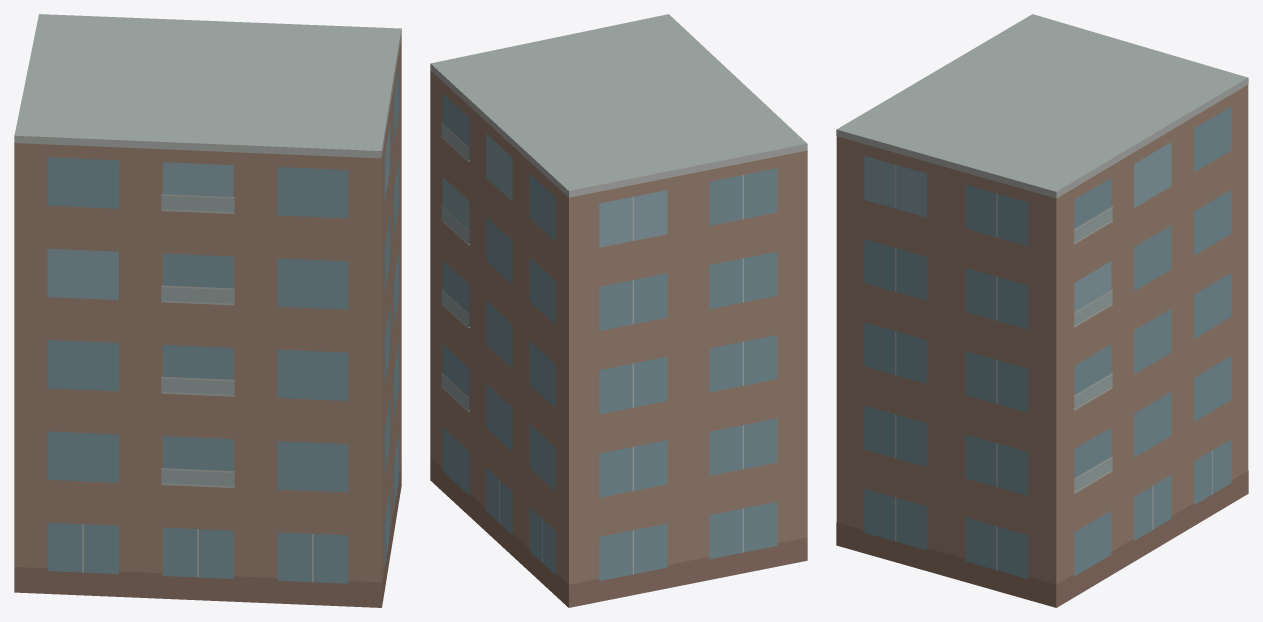
The model's file is survey-upis-32874350.glb.
The picture shows the model from 3 angles, left to right: view 1: azimuth 30°, elevation 25°; view 2: azimuth 150°, elevation 25°; view 3: azimuth 270°, elevation 25°; orthographic projection. The views are drawn at different scales.
Parts seen in each view (by area): view 1: survey-upis-32874350.tmp; view 2: survey-upis-32874350.tmp; view 3: survey-upis-32874350.tmp.
Part boxes in pixels (left/top/right/bottom): survey-upis-32874350.tmp: left=14, top=14, right=401, bottom=607; survey-upis-32874350.tmp: left=430, top=14, right=807, bottom=607; survey-upis-32874350.tmp: left=836, top=14, right=1248, bottom=607.
Size of the model in its own units: 14 by 15.25 by 13.7.
